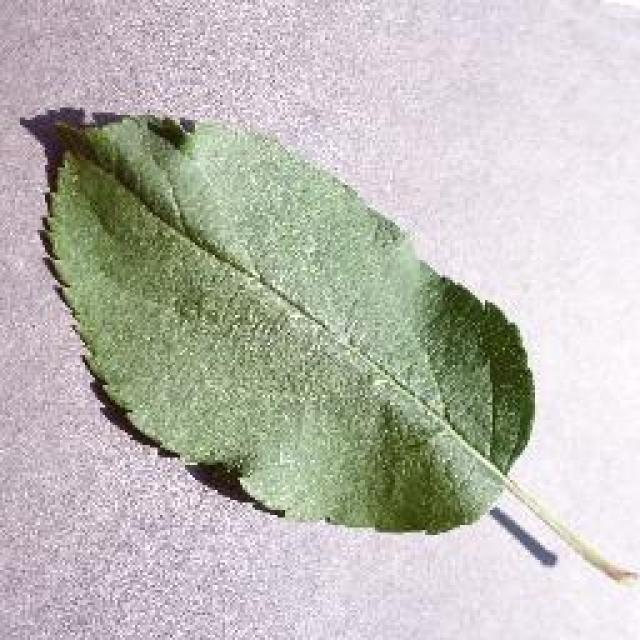apple healthy: (35, 107, 637, 585)
